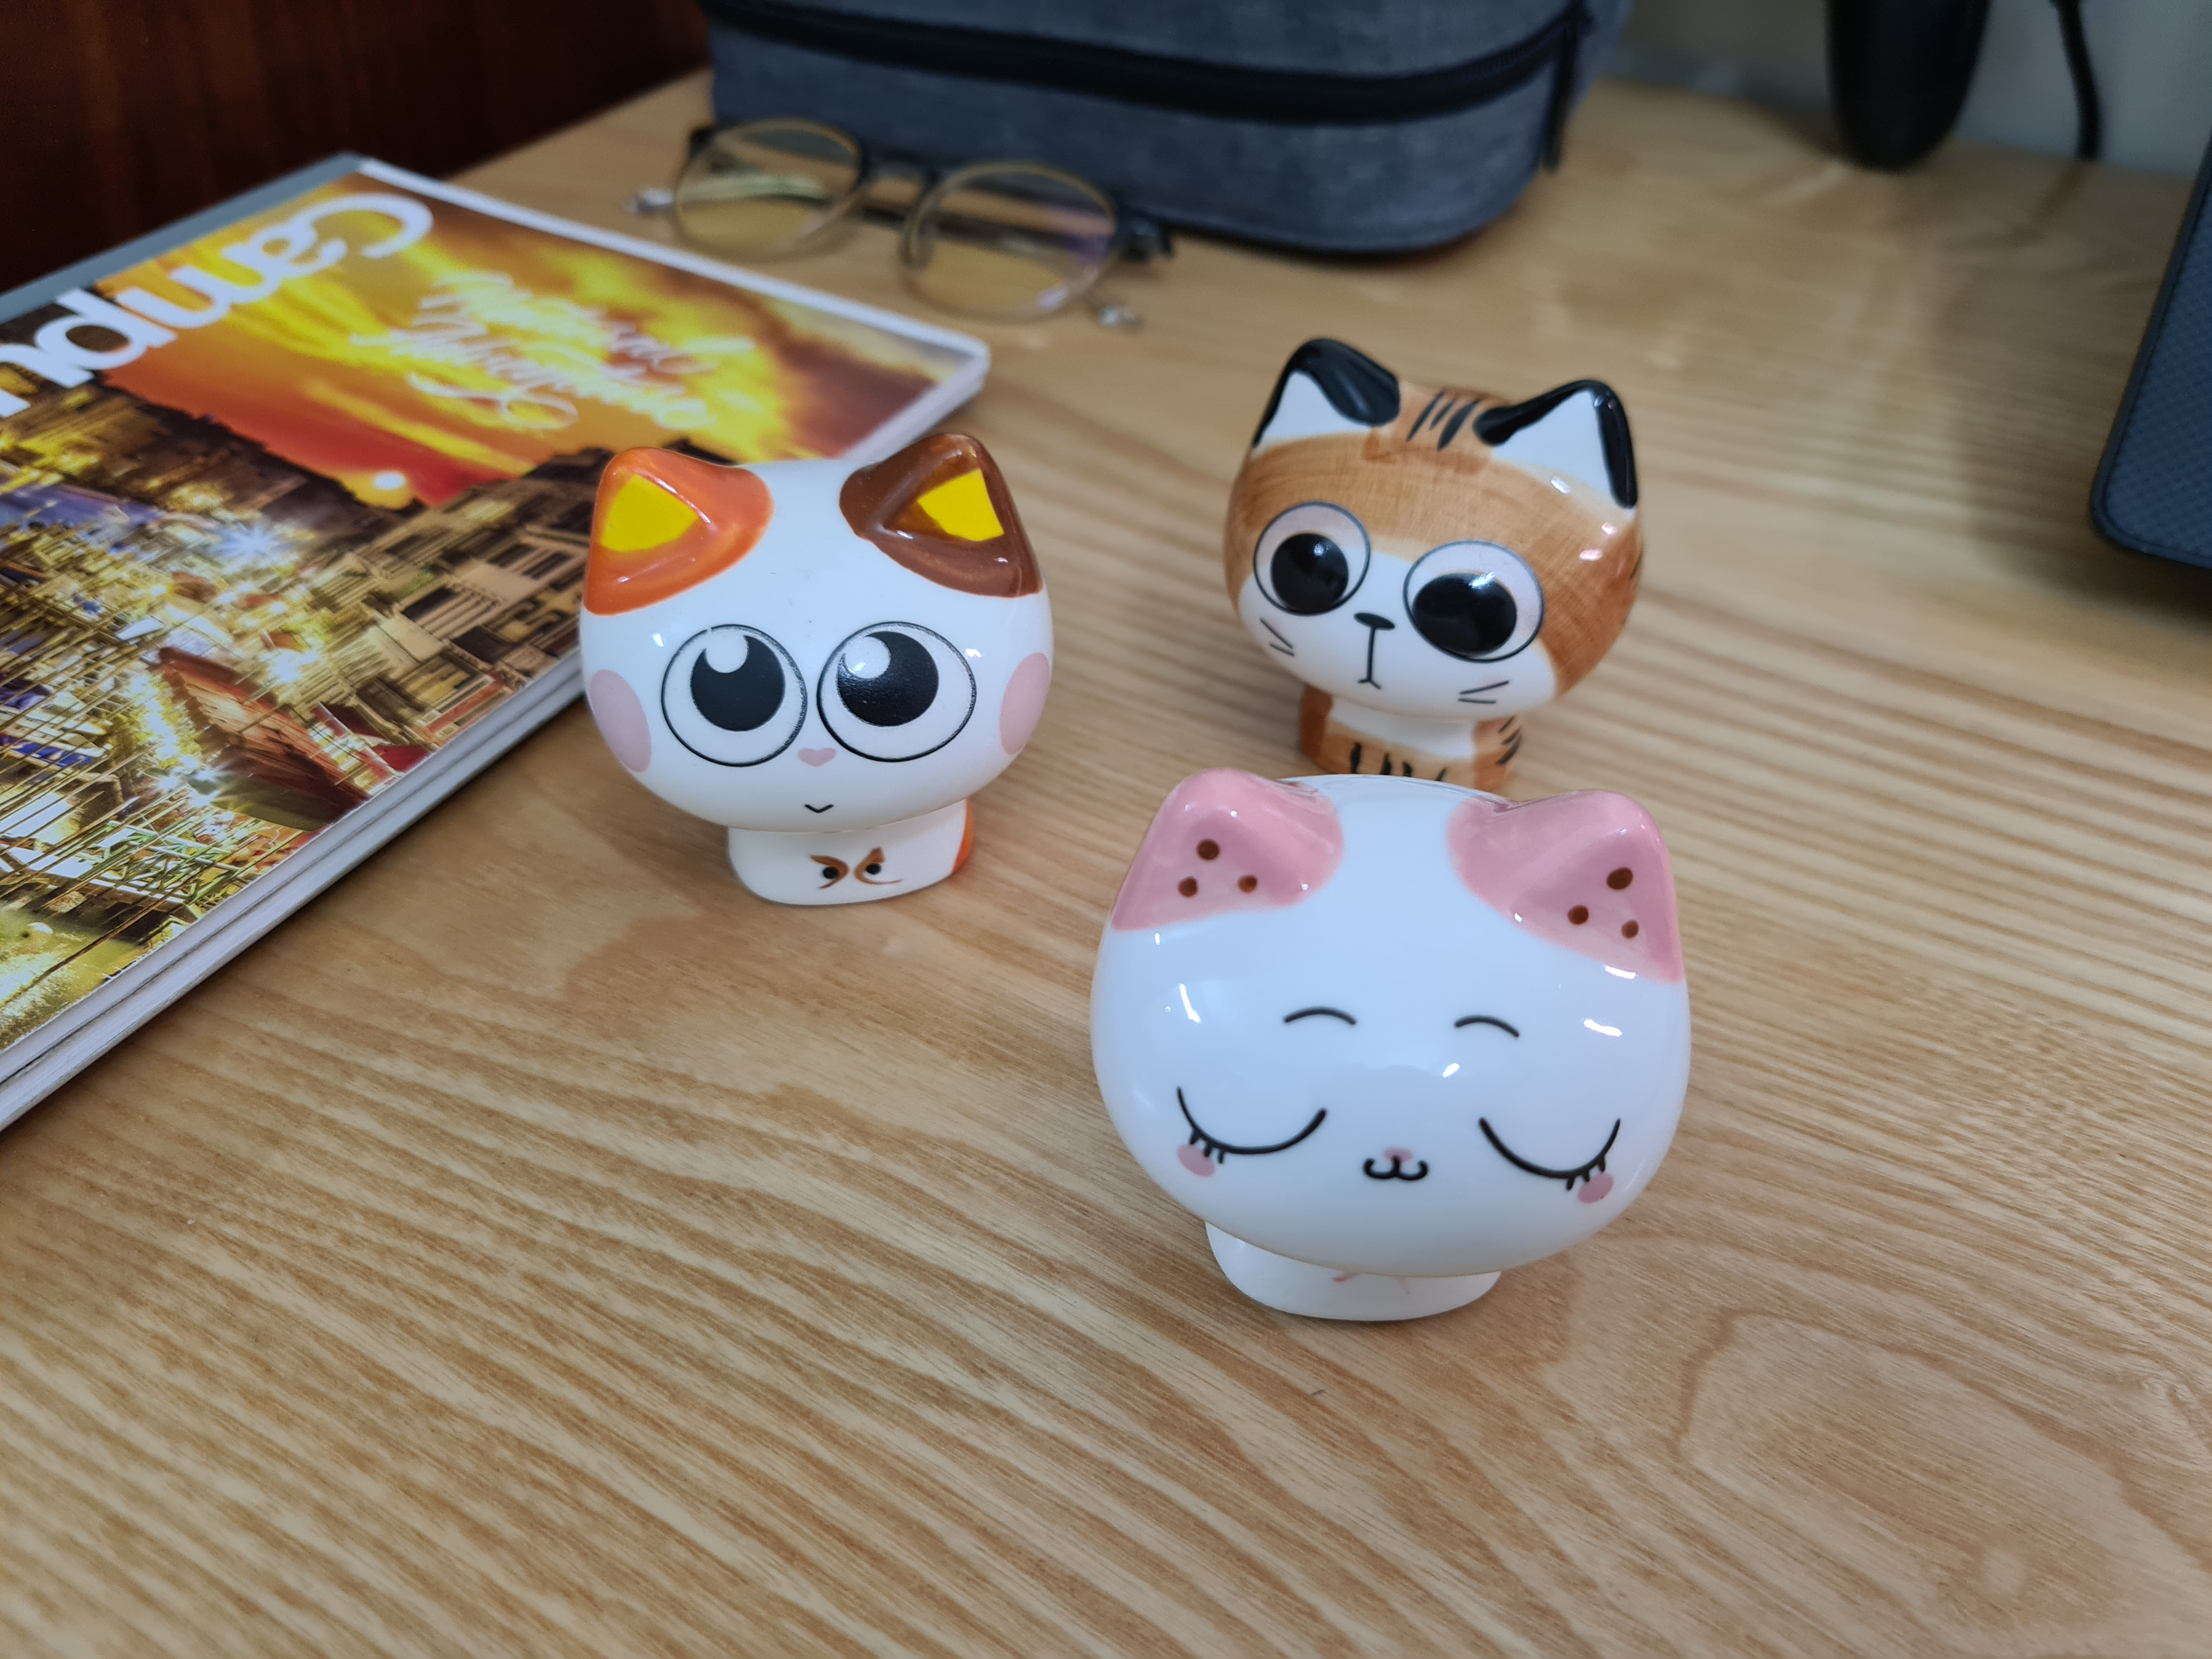cat: (1221, 336, 1646, 793)
